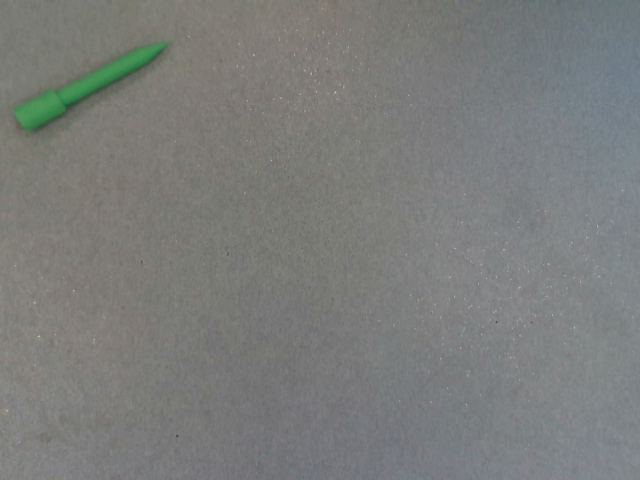Probe: (8, 34, 178, 137)
